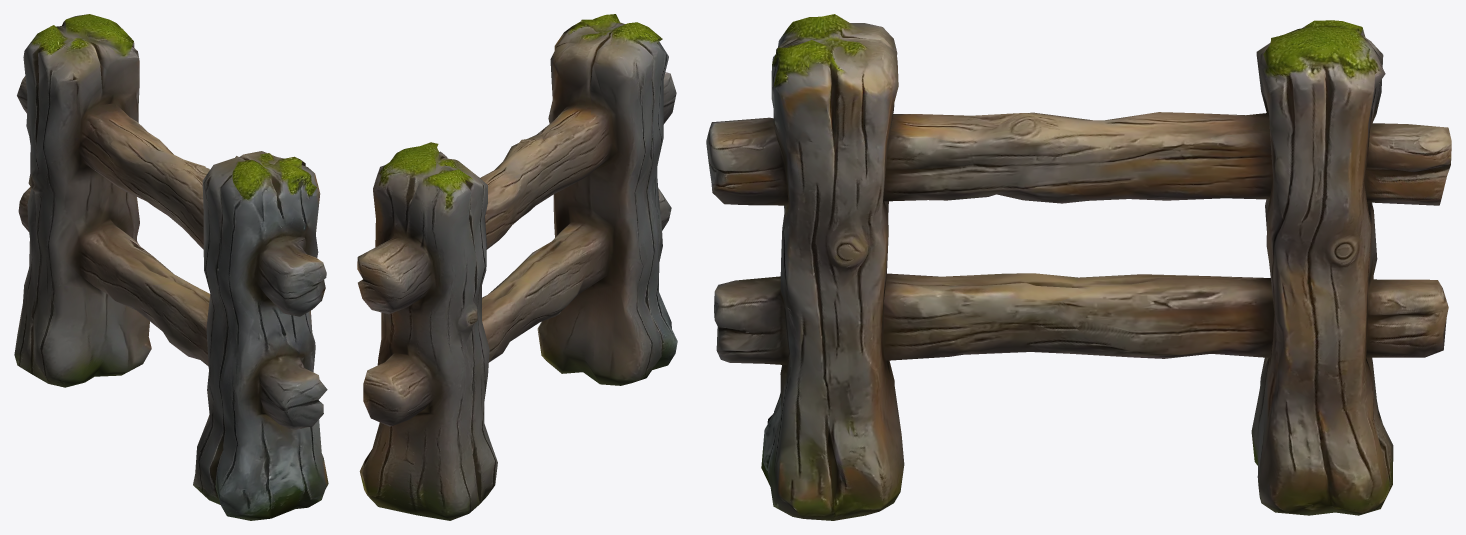
File: village_fence.glb
3 views of the same model, side by side, from view 1: azimuth 30°, elevation 25°; view 2: azimuth 150°, elevation 25°; view 3: azimuth 270°, elevation 25° (orthographic). The views are drawn at different scales.
Visible parts, largest first — view 1: tripo_node_a573389e-43ef-455a-8196-e9ef2071bb11; view 2: tripo_node_a573389e-43ef-455a-8196-e9ef2071bb11; view 3: tripo_node_a573389e-43ef-455a-8196-e9ef2071bb11.
Part boxes in pixels (<box>): tripo_node_a573389e-43ef-455a-8196-e9ef2071bb11: <box>14,14,328,520</box>; tripo_node_a573389e-43ef-455a-8196-e9ef2071bb11: <box>357,14,677,520</box>; tripo_node_a573389e-43ef-455a-8196-e9ef2071bb11: <box>706,14,1451,520</box>.
Size of the model in its own units: 0.3035 by 0.9001 by 1.3.
1 material, 1 textured.
